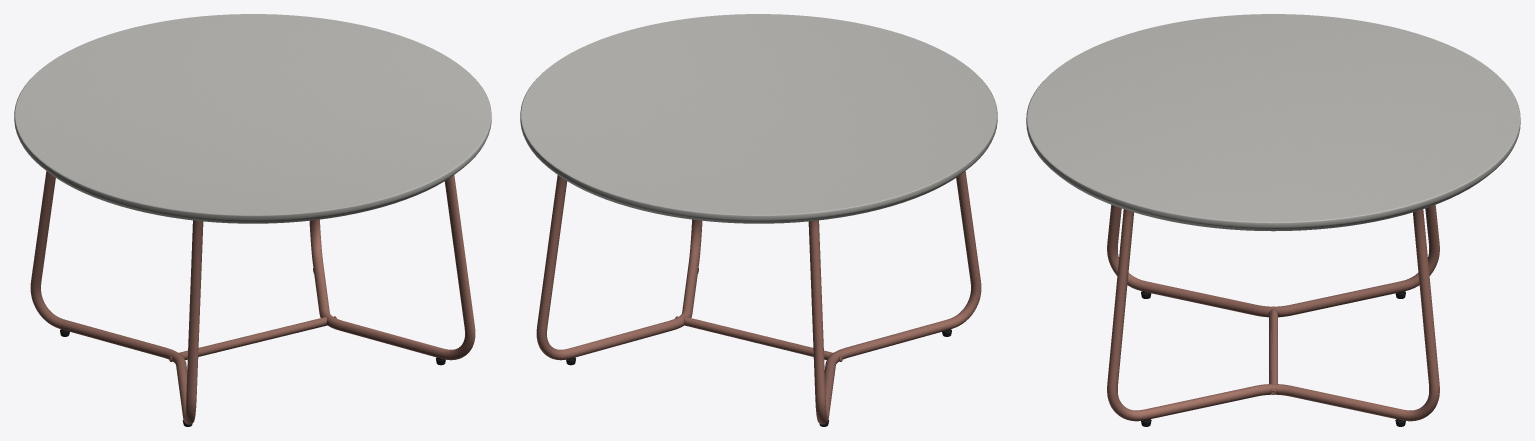
Rendered from Grey and Copper.glb.
The picture shows the model from 3 angles, left to right: view 1: azimuth 30°, elevation 25°; view 2: azimuth 150°, elevation 25°; view 3: azimuth 270°, elevation 25°; orthographic projection. The views are drawn at different scales.
Visible parts, largest first — view 1: Nyla_Coffee_Table_GREY_0, Nyla_Coffee_Table_COPPER_0; view 2: Nyla_Coffee_Table_GREY_0, Nyla_Coffee_Table_COPPER_0; view 3: Nyla_Coffee_Table_GREY_0, Nyla_Coffee_Table_COPPER_0.
Boxes of the visible parts, bbox=[...] form: Nyla_Coffee_Table_GREY_0: bbox=[14, 14, 491, 223]; Nyla_Coffee_Table_COPPER_0: bbox=[30, 171, 475, 424]; Nyla_Coffee_Table_GREY_0: bbox=[520, 14, 997, 223]; Nyla_Coffee_Table_COPPER_0: bbox=[536, 171, 981, 424]; Nyla_Coffee_Table_GREY_0: bbox=[1026, 14, 1520, 231]; Nyla_Coffee_Table_COPPER_0: bbox=[1107, 205, 1439, 421].
Size of what is drawn, in the model's own units: 80 by 43.5 by 80.
3 materials, 3 textured.
